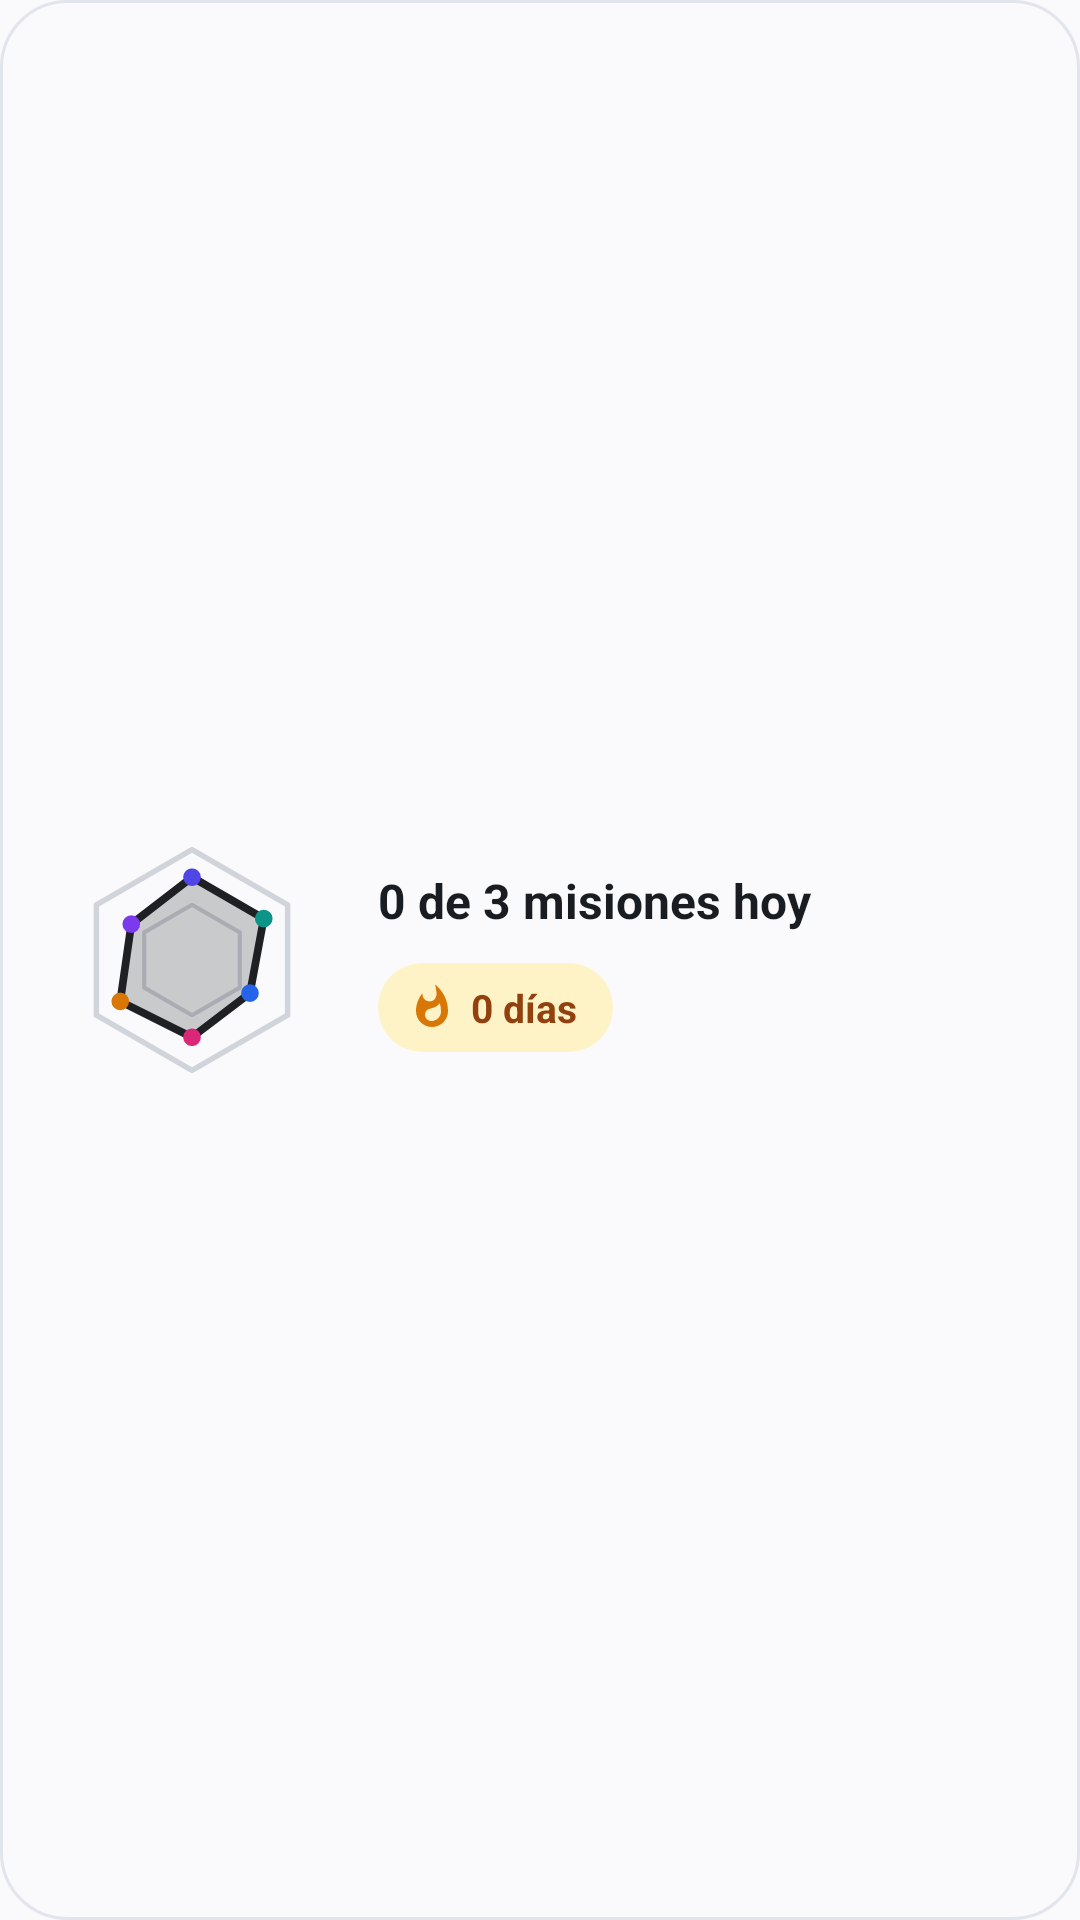

Screen size 1080×1920. Icon name, then its center in pixels as (x,y):
widget flame: (432,1005)
